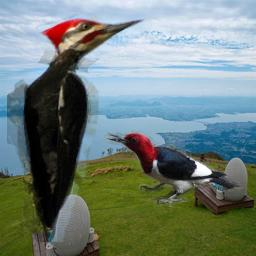Woodpecker: (7, 14, 152, 242), (102, 129, 243, 208)
